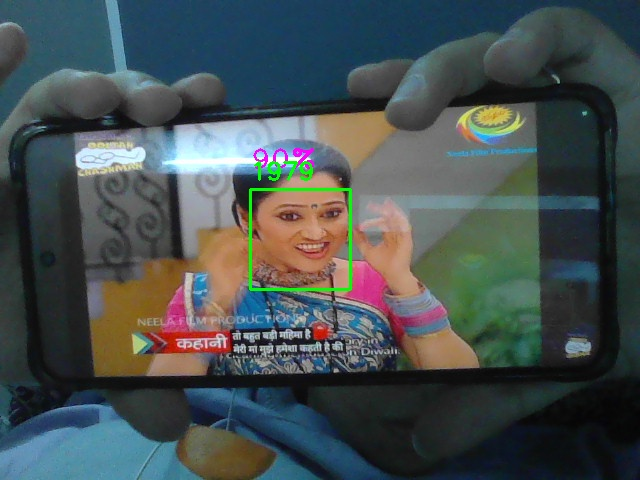fake: (250, 189, 351, 290)
